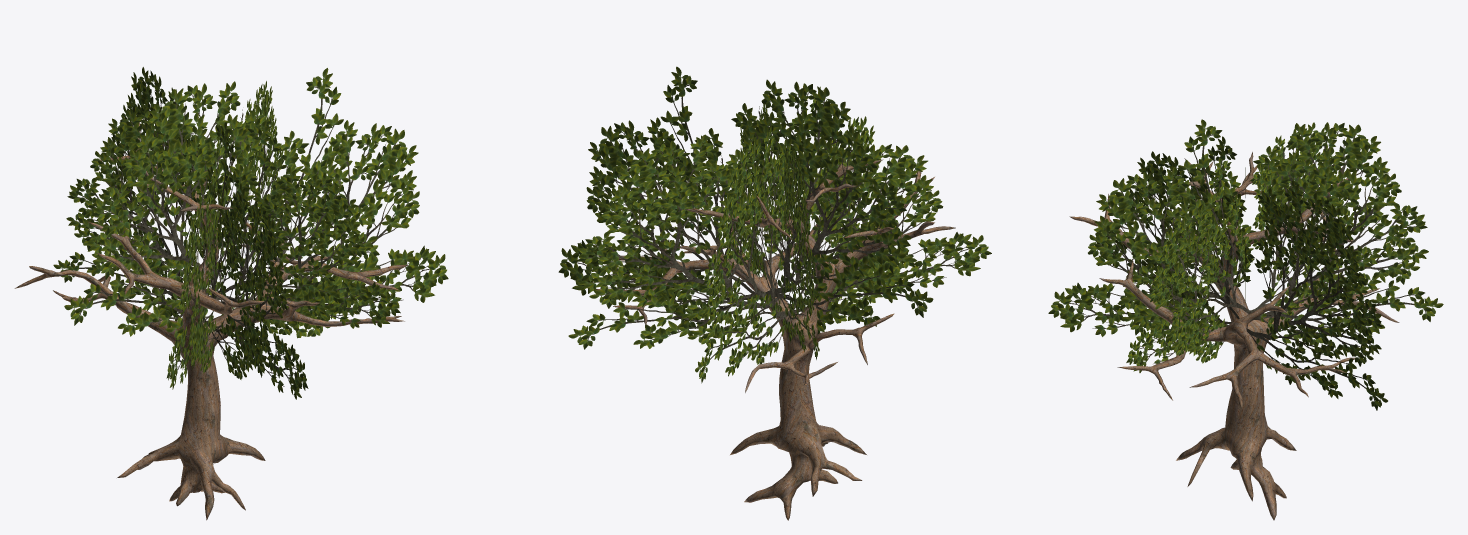
Rendered from tree.fbx.
3 views of the same model, side by side, from view 1: azimuth 30°, elevation 25°; view 2: azimuth 150°, elevation 25°; view 3: azimuth 270°, elevation 25° (orthographic). The views are drawn at different scales.
Visible parts, largest first — view 1: leafs, leafs.001, trunk, leafs.002, leafs.003; view 2: leafs, leafs.003, trunk, leafs.002, leafs.001; view 3: leafs.002, leafs.003, leafs.001, trunk.
Boxes of the visible parts, bbox=[...] form: leafs: bbox=[64, 68, 448, 339]; leafs.001: bbox=[53, 110, 400, 335]; trunk: bbox=[14, 122, 407, 520]; leafs.002: bbox=[100, 67, 308, 399]; leafs.003: bbox=[166, 81, 284, 389]; leafs: bbox=[558, 66, 933, 334]; leafs.003: bbox=[568, 110, 991, 349]; trunk: bbox=[596, 157, 955, 520]; leafs.002: bbox=[695, 86, 899, 383]; leafs.001: bbox=[729, 103, 819, 359]; leafs.002: bbox=[1048, 119, 1443, 351]; leafs.003: bbox=[1095, 136, 1387, 410]; leafs.001: bbox=[1126, 122, 1363, 372]; trunk: bbox=[1069, 152, 1399, 520].
Size of the model in its own units: 3625 by 3620 by 3144.
